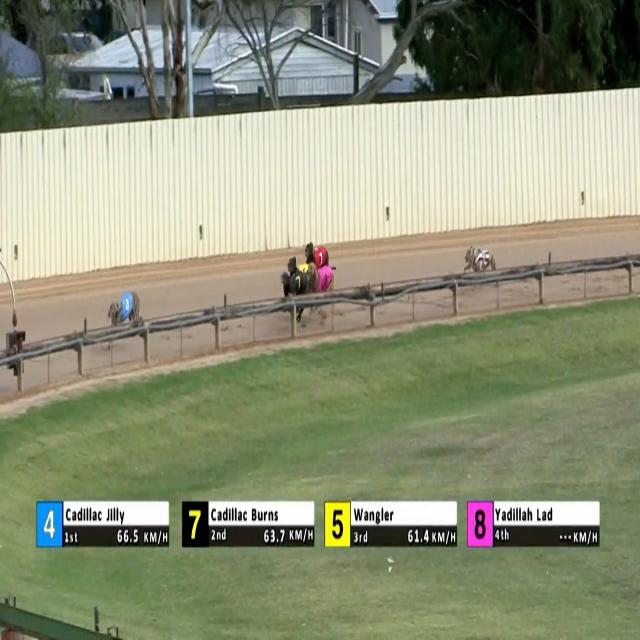dog_eight: (321, 269, 332, 292)
dog_five: (299, 263, 309, 279)
dog_four: (120, 293, 136, 323)
dog_one: (317, 248, 328, 266)
dog_seven: (292, 274, 304, 294)
dog_two: (476, 250, 491, 270)
rail: (0, 254, 638, 369)
